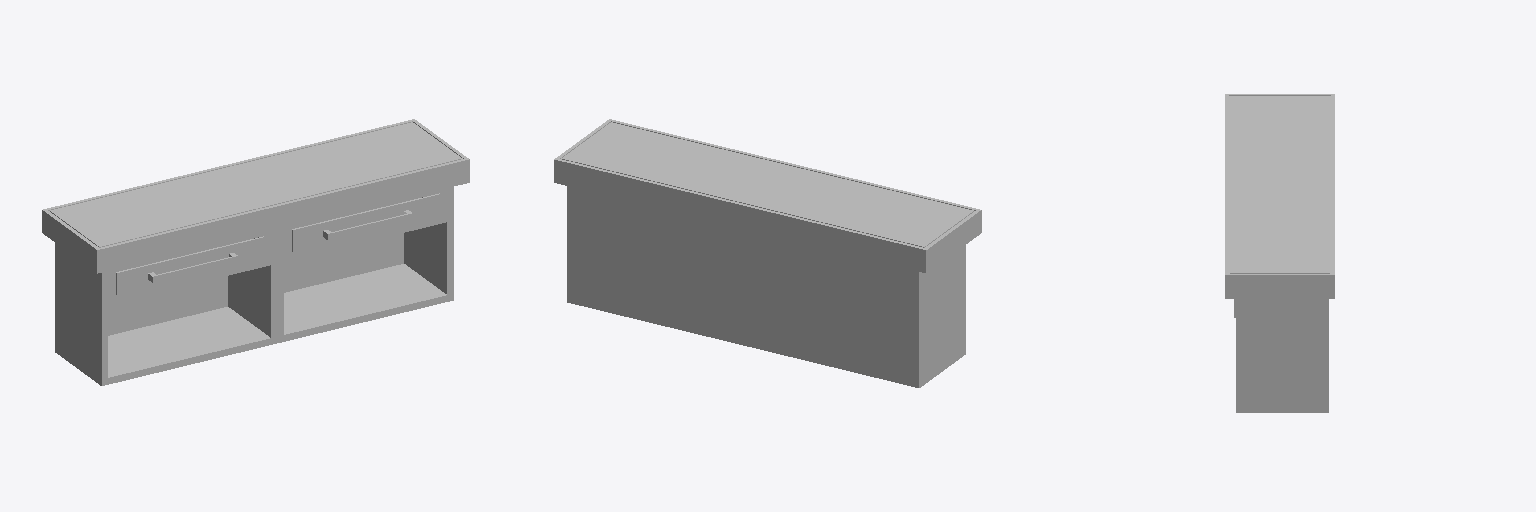
The model's file is Workbench.obj.
The picture shows the model from 3 angles: view 1: azimuth 30°, elevation 25°; view 2: azimuth 150°, elevation 25°; view 3: azimuth 270°, elevation 25°; orthographic projection.
Parts seen in each view (by area): view 1: Workbench_Cube.053, BenchDrawerA_Cube.002, BenchDrawerB_Cube.007; view 2: Workbench_Cube.053; view 3: Workbench_Cube.053.
Boxes of the visible parts, x1=… form: Workbench_Cube.053: x1=42, y1=119, x2=469, y2=385; BenchDrawerA_Cube.002: x1=116, y1=236, x2=264, y2=294; BenchDrawerB_Cube.007: x1=292, y1=193, x2=440, y2=251; Workbench_Cube.053: x1=554, y1=119, x2=981, y2=387; Workbench_Cube.053: x1=1225, y1=94, x2=1334, y2=412.
Bounding box in the file's own units: 3.89 × 1.42 × 1.